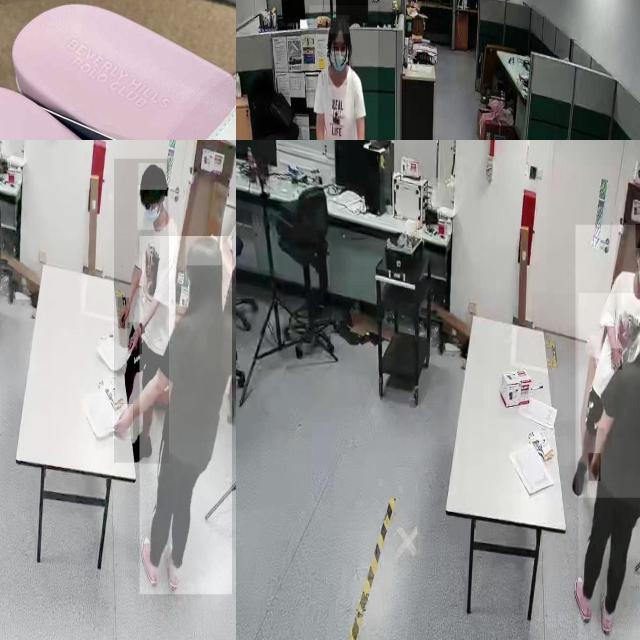Sandals: (0, 0, 236, 140)
face_mask: (138, 185, 166, 230), (328, 42, 348, 86)
hand_noglove: (113, 404, 133, 440), (128, 322, 142, 355), (118, 298, 130, 330), (589, 453, 601, 482), (611, 348, 623, 371)
head_nohelmet: (185, 236, 223, 266), (138, 163, 168, 191), (328, 15, 350, 35)
person: (140, 236, 232, 595), (578, 293, 640, 640), (575, 224, 640, 497), (114, 158, 169, 464), (309, 5, 378, 140)
shoes: (140, 531, 160, 590), (573, 574, 592, 627), (165, 535, 181, 592), (599, 584, 615, 635)
